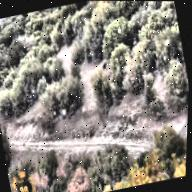boar: (99, 58, 109, 71)
